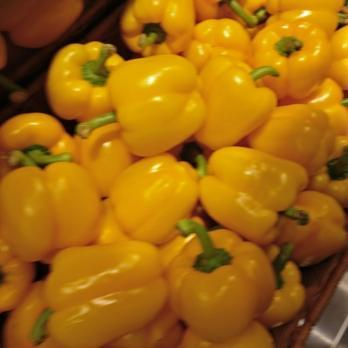Capsicum: (119, 0, 348, 263), (1, 115, 195, 348), (152, 228, 307, 346), (45, 38, 127, 120)
